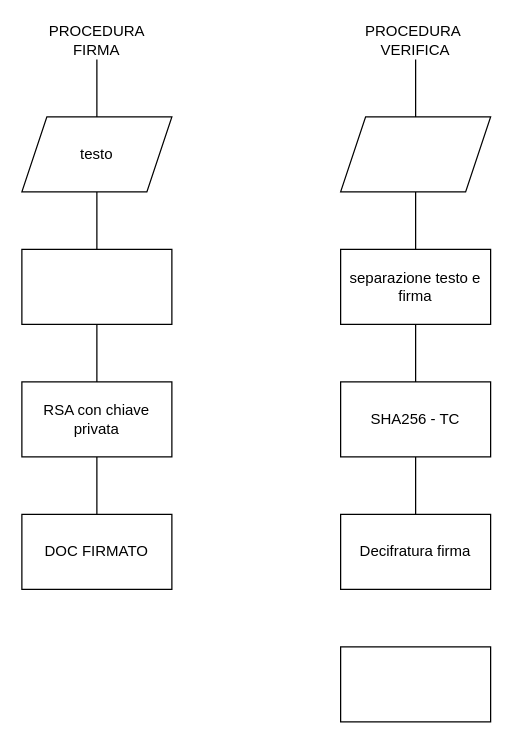
This 513x744 diagram has some shape labels left out. Each missing label, with the box of its shape:
Confronto con DIGEST: (339, 646, 491, 722)
I (documento firmato): (339, 116, 491, 192)
SHA256: (21, 248, 172, 324)
